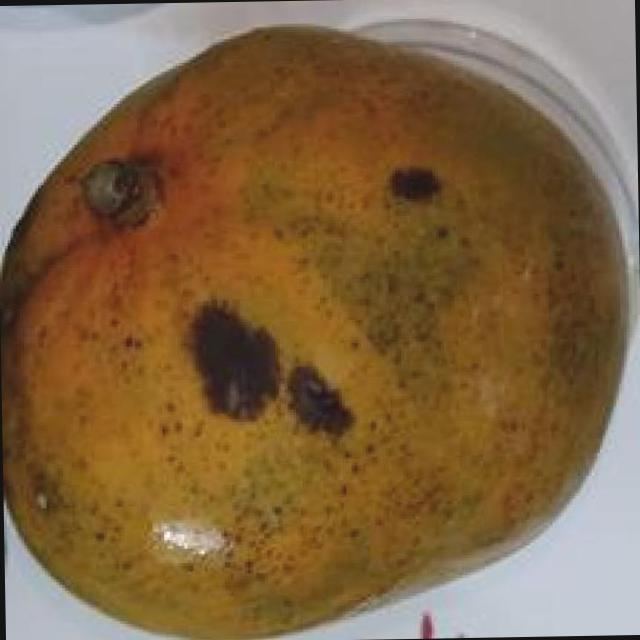Mango: (0, 17, 634, 640)
